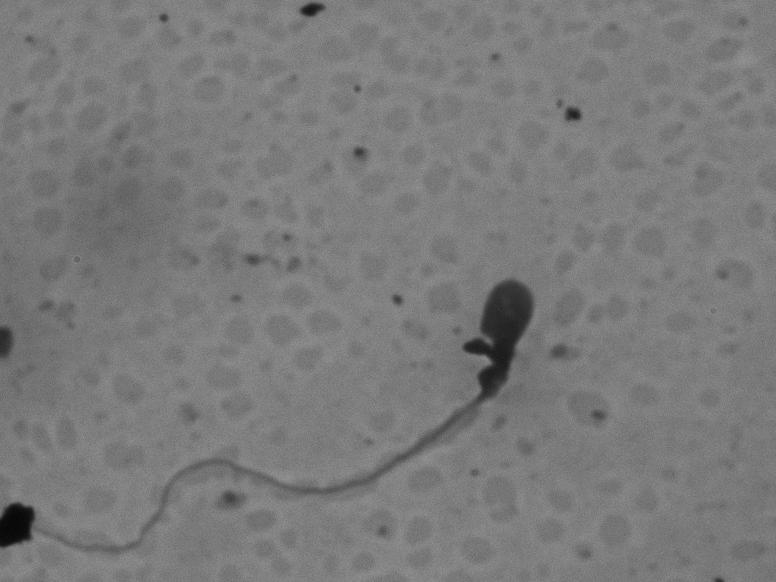Abnormal: (45, 259, 607, 559)
